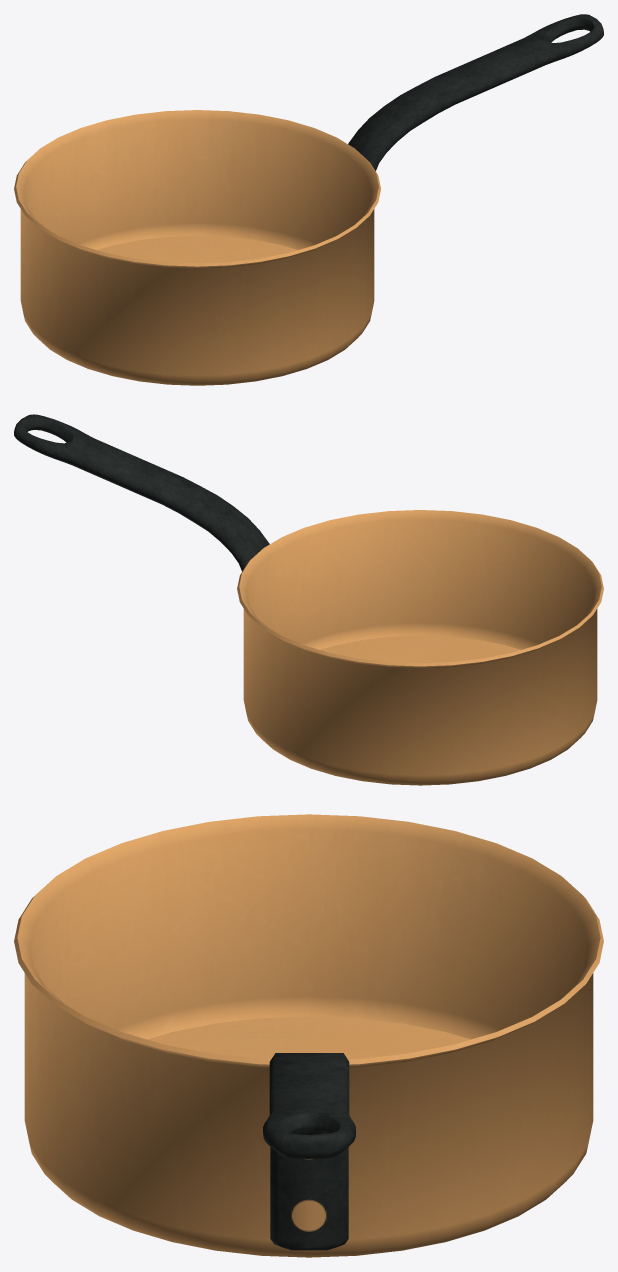
The model's file is Pan3.fbx.
3 renders of one model, top to bottom at view 1: azimuth 30°, elevation 25°; view 2: azimuth 150°, elevation 25°; view 3: azimuth 270°, elevation 25°, orthographic. The views are drawn at different scales.
Parts seen in each view (by area): view 1: Pan3; view 2: Pan3; view 3: Pan3.
Part boxes in pixels (x1,y1,x2,y2): Pan3: [14, 14, 603, 385]; Pan3: [14, 414, 603, 785]; Pan3: [14, 814, 603, 1257].
Bounding box in the file's own units: 0.2923 × 0.0986 × 0.1661.
